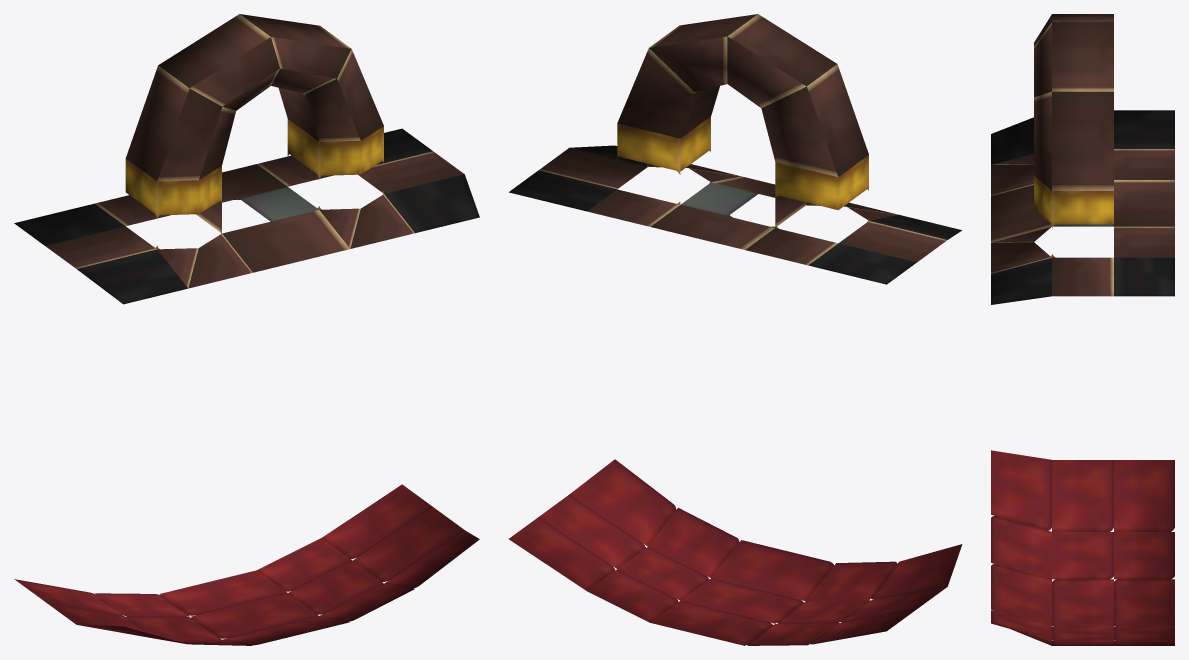
3 renders of one model, left to right at view 1: azimuth 30°, elevation 25°; view 2: azimuth 150°, elevation 25°; view 3: azimuth 270°, elevation 25°, orthographic. The views are drawn at different scales.
Parts seen in each view (by area): view 1: T1L7M001_27; view 2: T1L7M001_27; view 3: T1L7M001_27.
Part boxes in pixels (bbox=[...]): T1L7M001_27: bbox=[14, 14, 479, 645]; T1L7M001_27: bbox=[509, 14, 962, 645]; T1L7M001_27: bbox=[991, 14, 1174, 645].
Bounding box in the file's own units: 0.4795 × 0.6973 × 0.2002.
